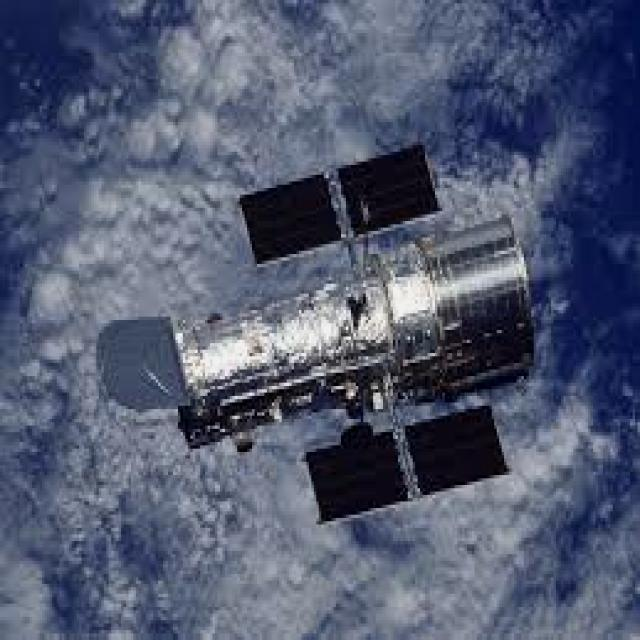satellite: (99, 145, 534, 520)
